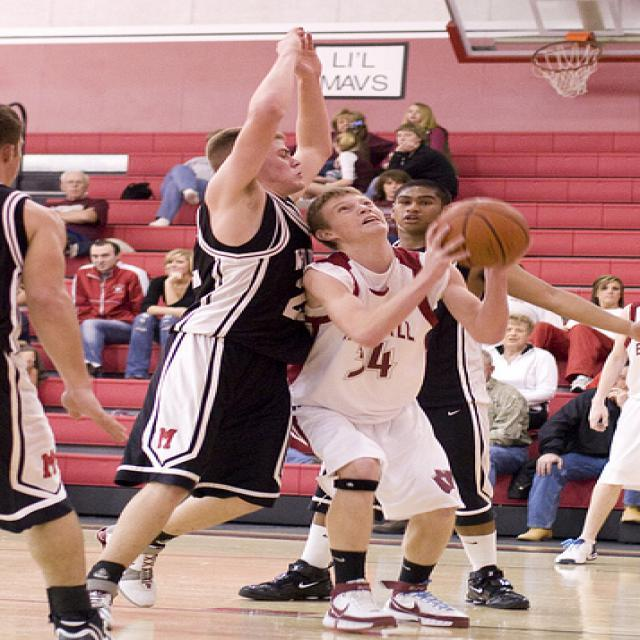basketball: (431, 195, 532, 275)
